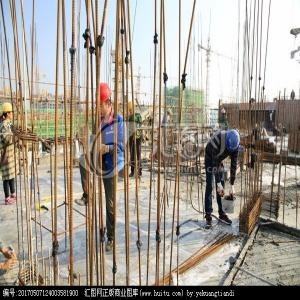blue: (225, 130, 241, 155)
red: (95, 83, 113, 118)
yellow: (2, 102, 14, 123), (128, 101, 135, 116), (168, 107, 172, 117)
